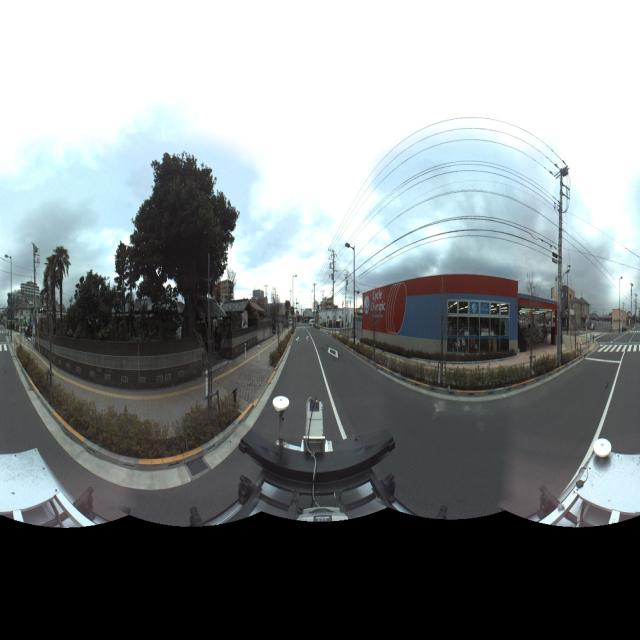b_1: (8, 276, 46, 341), (195, 276, 235, 334)
